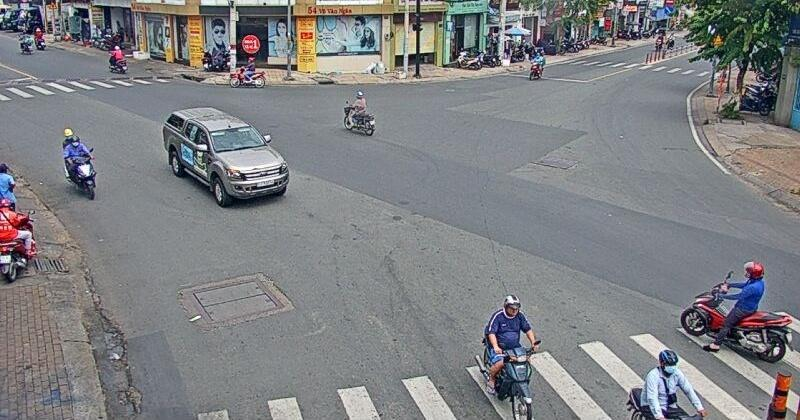xe hoi: (162, 106, 288, 208)
xe may: (679, 261, 793, 362), (475, 292, 540, 420), (62, 128, 96, 198), (343, 91, 375, 136)
